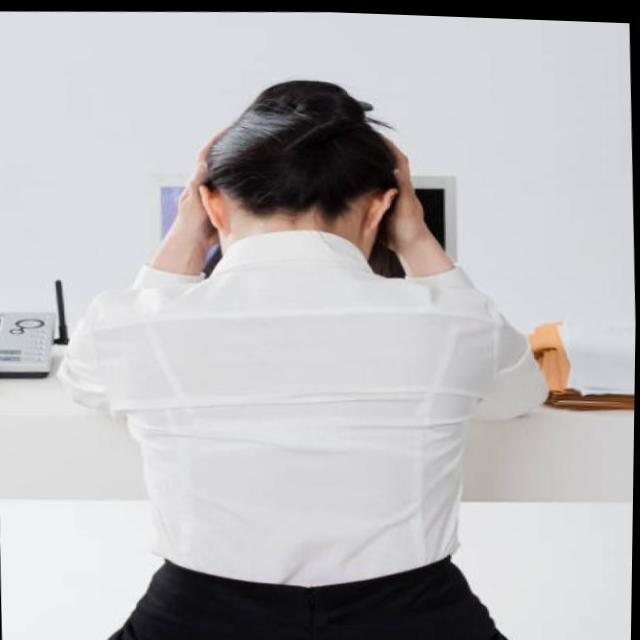no helmet: (198, 63, 414, 293)
